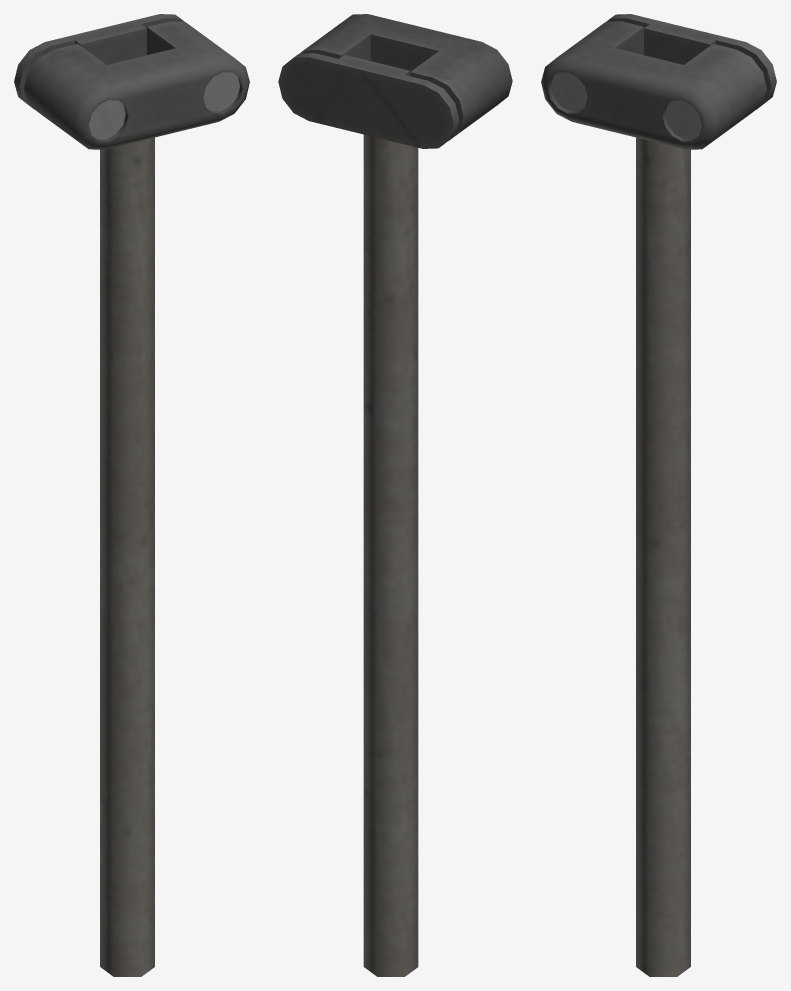
The model's file is cable_straight_medium.glb.
3 views of the same model, side by side, from view 1: azimuth 30°, elevation 25°; view 2: azimuth 150°, elevation 25°; view 3: azimuth 330°, elevation 25° (orthographic).
Parts seen in each view (by area): view 1: cable_straight_medium; view 2: cable_straight_medium; view 3: cable_straight_medium.
Boxes of the visible parts, x1,y1,x2,y2 form: cable_straight_medium: (14,14,249,976); cable_straight_medium: (278,14,512,976); cable_straight_medium: (541,14,776,976).
Bounding box in the file's own units: 0.0416 × 0.2073 × 0.0259.
Materials: 1 (1 with a texture image).
